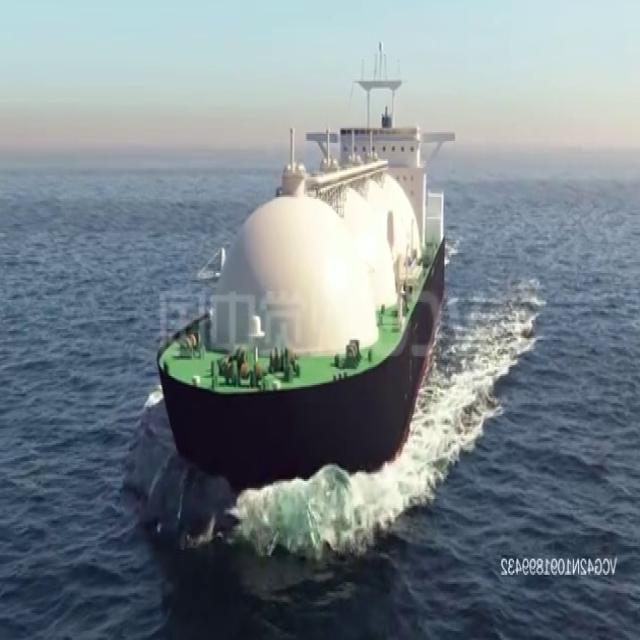cargoship: (165, 38, 456, 484)
